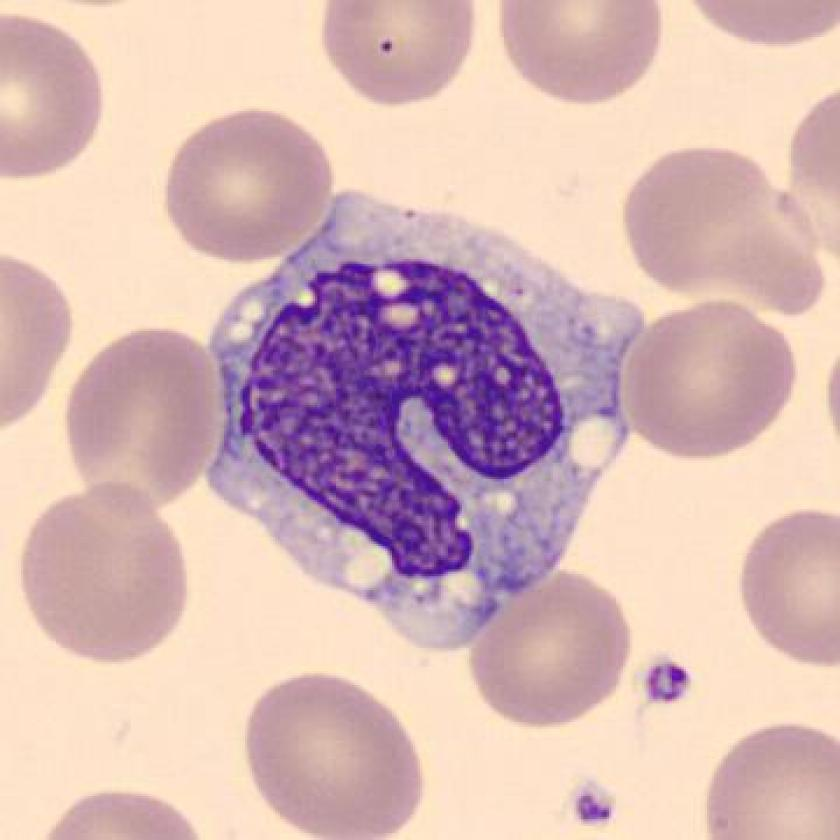monocyte: (188, 161, 664, 665)
